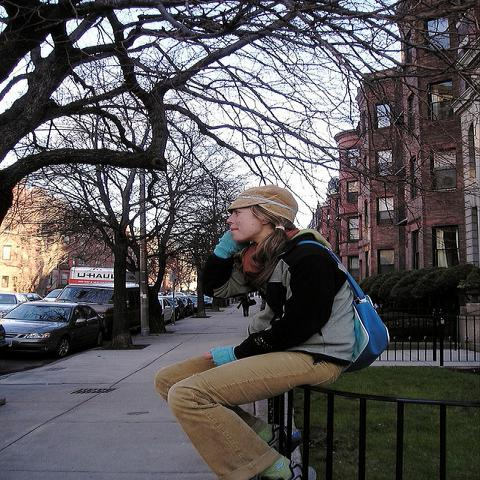car: (0, 300, 106, 358), (55, 282, 142, 338), (167, 291, 213, 308), (157, 296, 186, 317), (0, 293, 28, 314), (158, 298, 176, 321), (181, 296, 196, 316), (42, 288, 63, 300)
truck: (67, 266, 135, 285)
